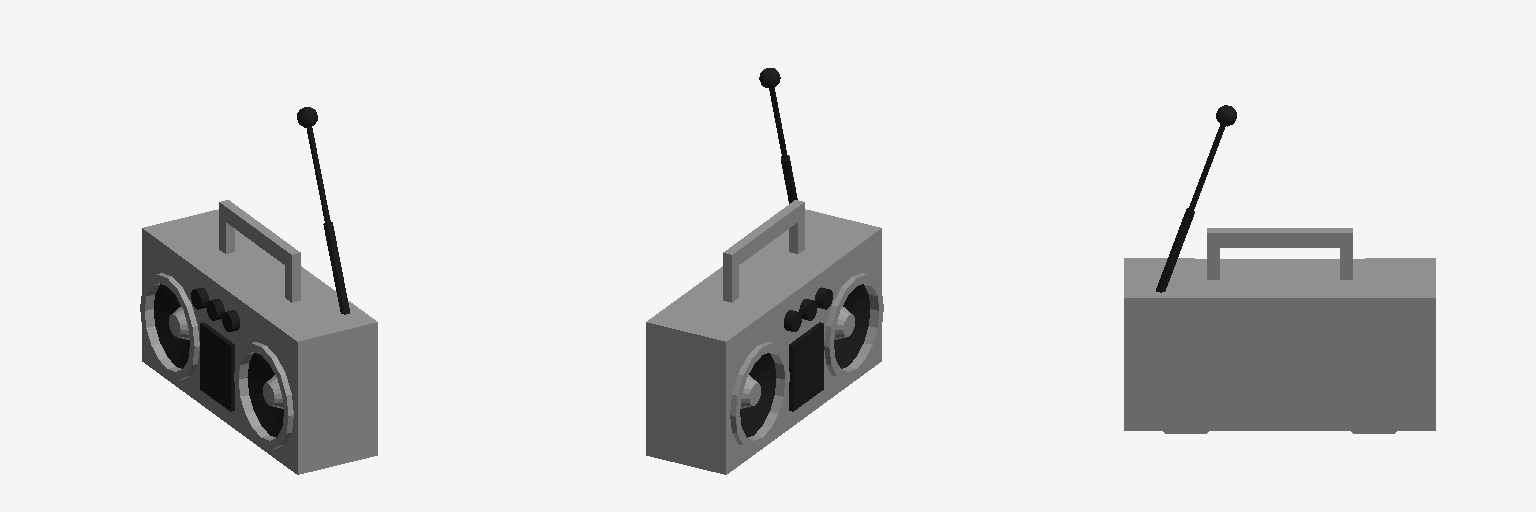
Rendered from Radio.obj.
3 renders of one model, left to right at view 1: azimuth 30°, elevation 25°; view 2: azimuth 150°, elevation 25°; view 3: azimuth 270°, elevation 25°, orthographic.
Parts seen in each view (by area): view 1: Radio_Cube; view 2: Radio_Cube; view 3: Radio_Cube.
Part boxes in pixels (left/top/right/bottom): Radio_Cube: left=140, top=107, right=377, bottom=474; Radio_Cube: left=646, top=68, right=883, bottom=474; Radio_Cube: left=1124, top=105, right=1435, bottom=433.
Bounding box in the file's own units: 0.5505 × 1.92 × 1.67.